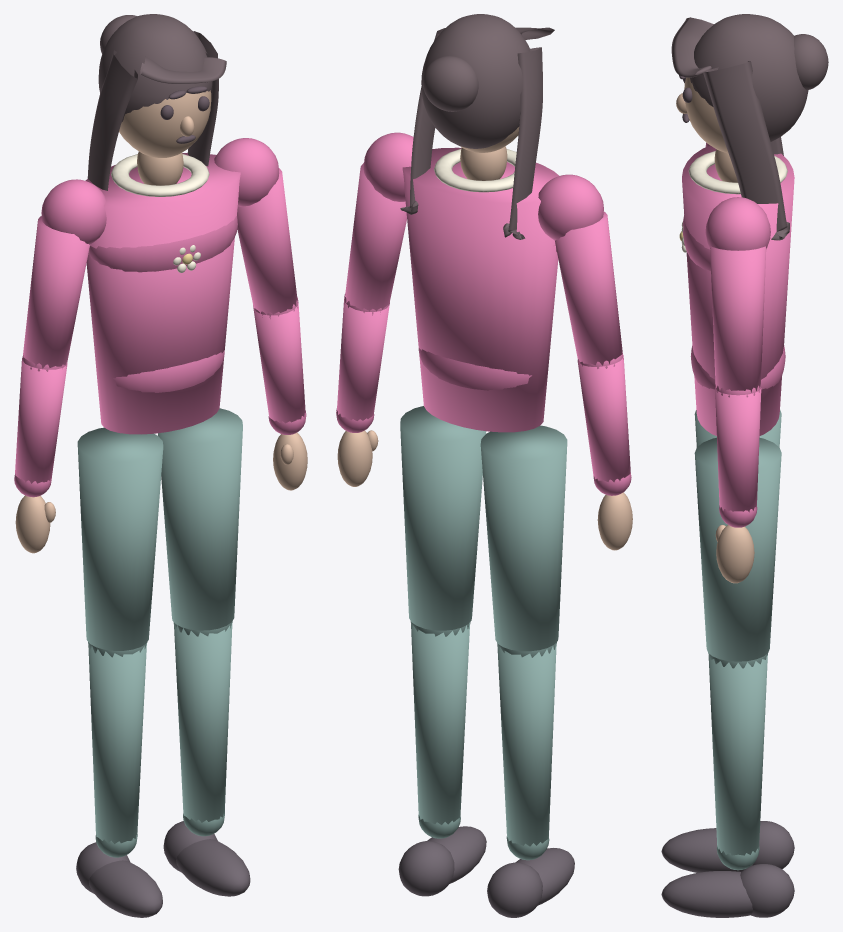
Rendered from shopper_bun.glb.
3 views of the same model, side by side, from view 1: azimuth 30°, elevation 25°; view 2: azimuth 150°, elevation 25°; view 3: azimuth 270°, elevation 25° (orthographic).
Parts seen in each view (by area): view 1: Torso, LegR, LegL, ArmR, ArmL, Hair, Head; view 2: Torso, LegR, LegL, Hair, ArmR, ArmL, Head; view 3: LegL, Hair, Torso, ArmL, LegR, Head.
Part boxes in pixels (x1,y1,x2,y2): Torso: (41,138,279,434); LegR: (76,427,163,917); LegL: (158,408,250,896); ArmR: (14,216,89,553); ArmL: (237,168,307,490); Hair: (87,14,226,190); Head: (119,86,211,185); Torso: (363,132,603,432); LegR: (480,425,574,917); LegL: (398,406,486,896); Hair: (400,14,554,239); ArmR: (555,211,632,550); ArmL: (336,163,406,486); Head: (460,48,530,180); LegL: (661,437,794,917); Hair: (671,14,828,240); Torso: (679,142,794,435); ArmL: (710,246,766,583); LegR: (661,410,794,872); Head: (676,75,737,182).
Size of the model in its own units: 0.592 by 1.71 by 0.296.
